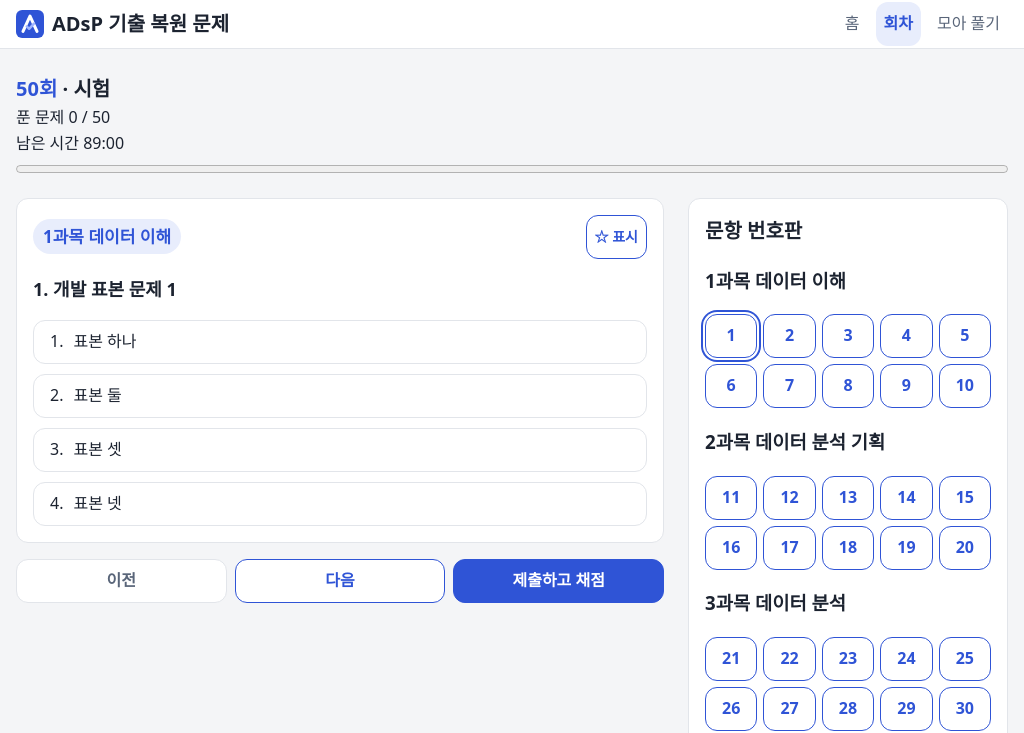
Test case: round heading exit saves answers and elapsed time and pauses until returning
The width and height of the screenshot is (1024, 733).
Expected: the heading "50회 · 시험" is shown, x1=16 y1=75 x2=110 y2=102
Click the button "2. 표본 둘" at (98, 395), box x1=33 y1=374 x2=647 y2=418
Wait 3000 ms
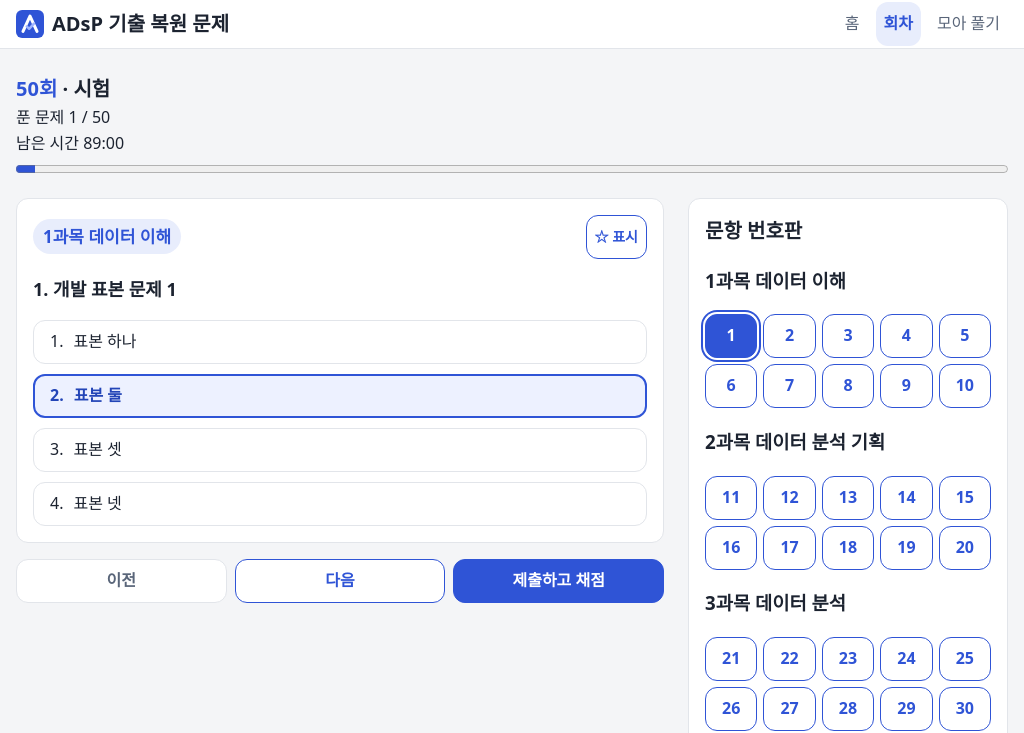
Click the link "50회" at (27, 88), box x1=16 y1=75 x2=57 y2=102
Wait 10000 ms
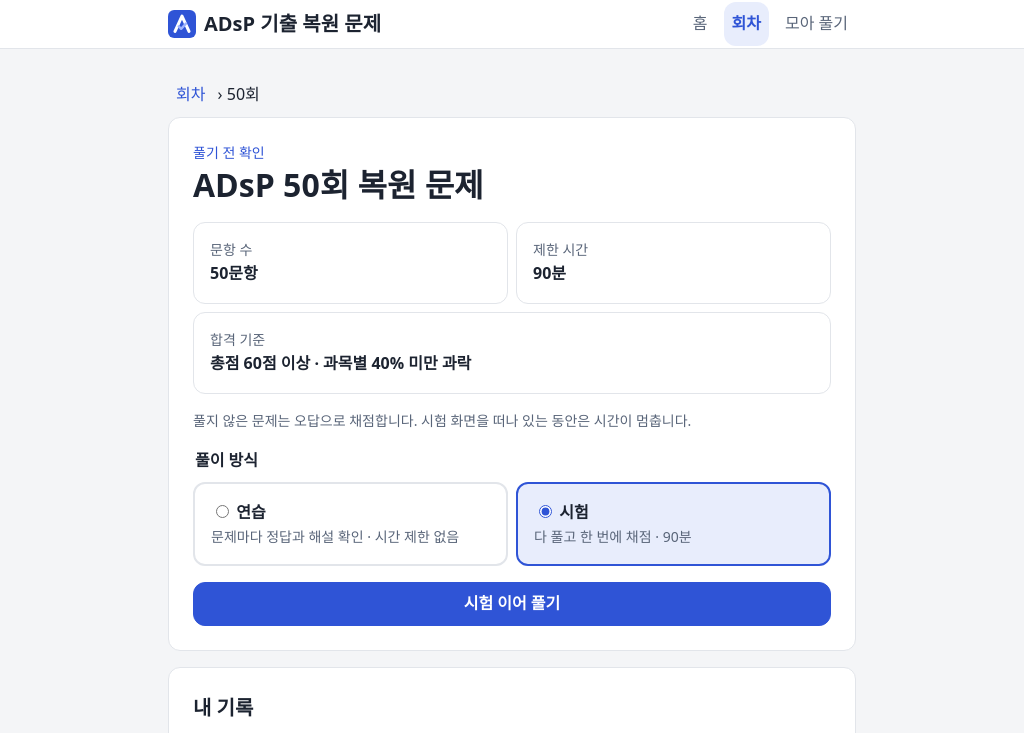
Expected: the heading "ADsP 50회 복원 문제" is shown, x1=193 y1=163 x2=484 y2=206
Click the link "시험 이어 풀기" at (512, 604), box x1=193 y1=582 x2=831 y2=626
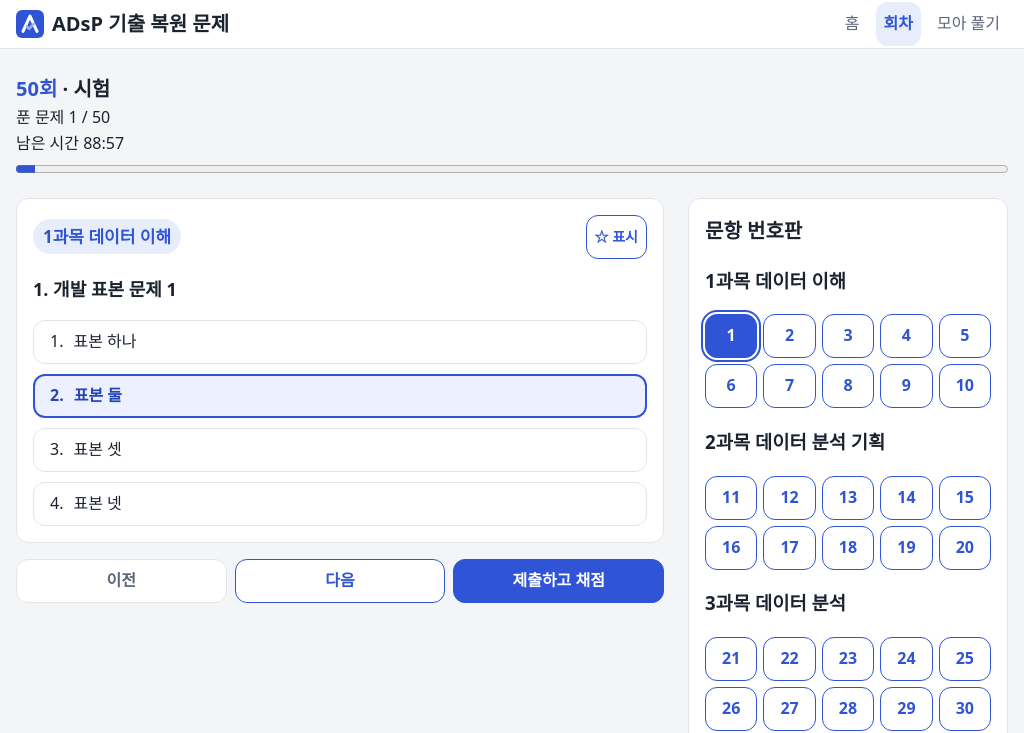
Expected: the text "남은 시간 88:57" is shown, x1=16 y1=132 x2=124 y2=154
Expected: the heading "50회 · 시험" is shown, x1=16 y1=75 x2=110 y2=102
